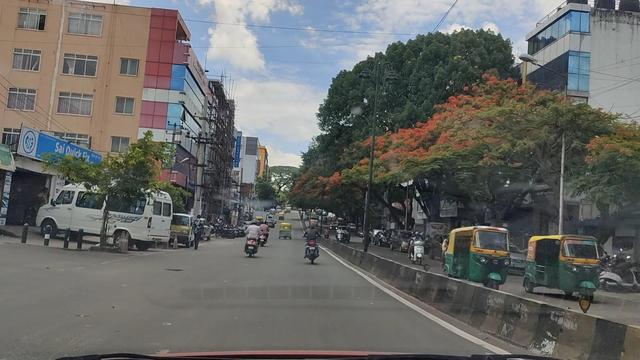LMV: (303, 224, 323, 267), (248, 225, 264, 259)
